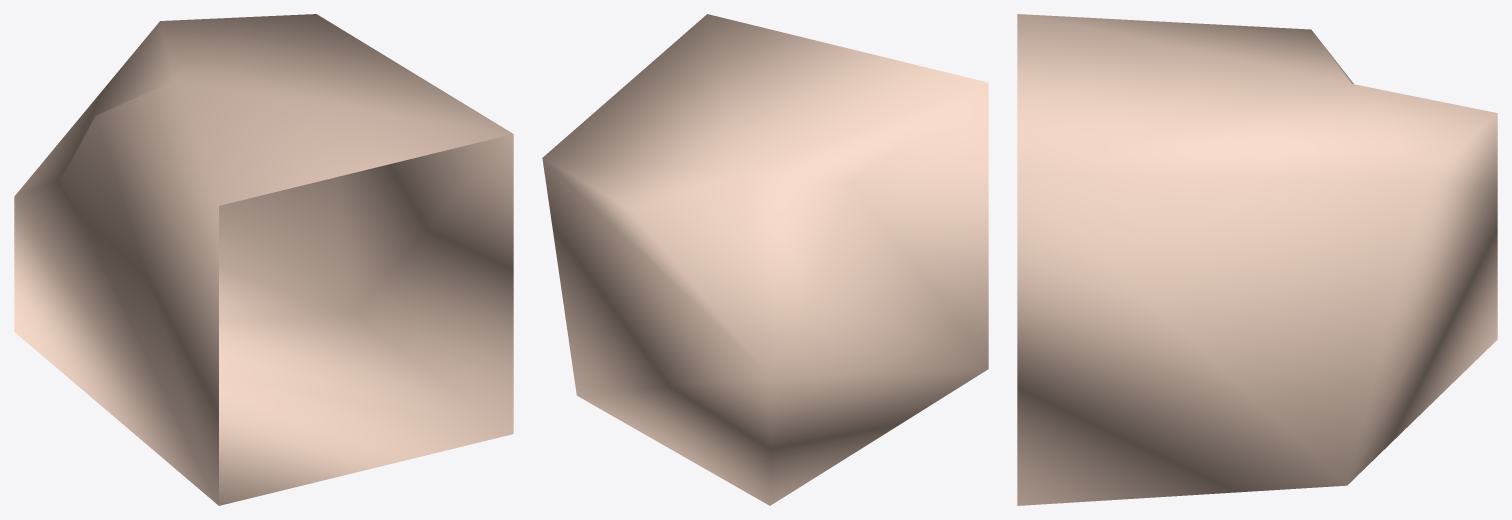
The picture shows the model from 3 angles, left to right: view 1: azimuth 30°, elevation 25°; view 2: azimuth 150°, elevation 25°; view 3: azimuth 270°, elevation 25°; orthographic projection. The views are drawn at different scales.
Parts seen in each view (by area): view 1: Object19; view 2: Object19; view 3: Object19.
Boxes of the visible parts, bbox=[...] form: Object19: bbox=[14, 14, 513, 505]; Object19: bbox=[542, 14, 988, 505]; Object19: bbox=[1017, 14, 1497, 505].
Size of the model in its own units: 12388 by 12056 by 15787.
